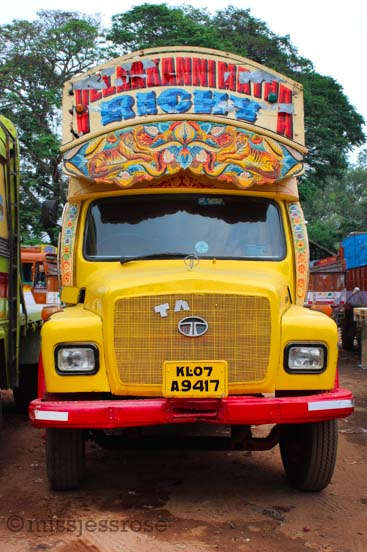doublelinenumberplate: (163, 358, 228, 400)
